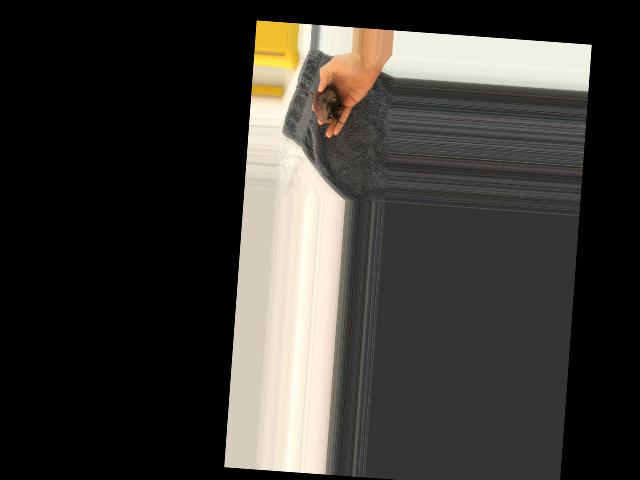beet: (293, 82, 345, 123)
